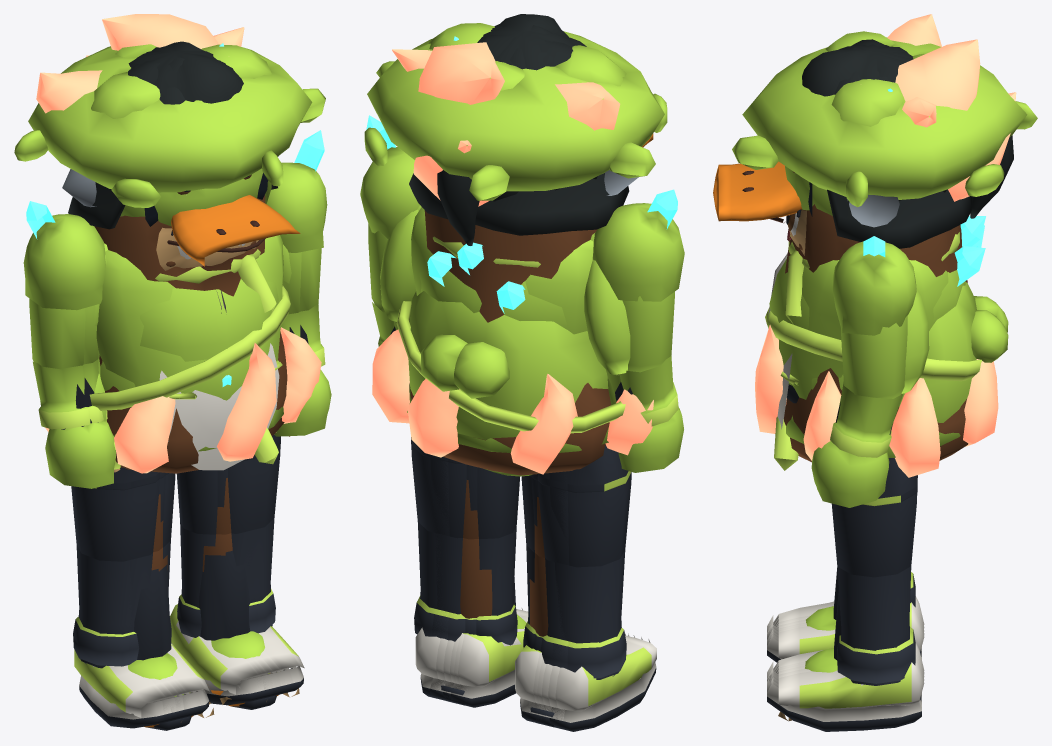
File: characters.glb
3 views of the same model, side by side, from view 1: azimuth 30°, elevation 25°; view 2: azimuth 150°, elevation 25°; view 3: azimuth 270°, elevation 25° (orthographic). The views are drawn at different scales.
Parts seen in each view (by area): view 1: Leafy crown, Tree trunk, Dress flame point, Expedition torso.002, Stone arm, Expedition torso.005, Plump duck body, Expedition thigh.010, Flame hair tip, Broad duck bill, Stone shin.001, Stone arm.001 (+36 smaller); view 2: Leafy crown, Plump duck body, Tree trunk, Dress flame point, Flame hair tip, Stone arm, Hair volume bob, Expedition thigh.010, Sneaker.010, Expedition shin.010, Expedition torso.002, Sneaker.001 (+34 smaller); view 3: Leafy crown, Dress flame point, Tree trunk, Plump duck body, Sneaker.011, Flame hair tip, Stone arm.001, Expedition thigh.011, Expedition shin.011, Expedition torso.002, Hair volume bob, Broad duck bill (+18 smaller).
Boxes of the visible parts, x1=… form: Leafy crown: x1=14, y1=44, x2=325, y2=207; Tree trunk: x1=89, y1=195, x2=290, y2=473; Dress flame point: x1=45, y1=327, x2=321, y2=473; Expedition torso.002: x1=96, y1=235, x2=283, y2=400; Stone arm: x1=23, y1=201, x2=105, y2=310; Expedition torso.005: x1=140, y1=279, x2=278, y2=395; Plump duck body: x1=100, y1=249, x2=279, y2=470; Expedition thigh.010: x1=71, y1=467, x2=148, y2=561; Flame hair tip: x1=36, y1=14, x2=244, y2=113; Broad duck bill: x1=167, y1=195, x2=300, y2=266; Stone shin.001: x1=199, y1=550, x2=269, y2=673; Stone arm.001: x1=266, y1=130, x2=327, y2=253; Leafy crown: x1=364, y1=23, x2=667, y2=200; Plump duck body: x1=408, y1=236, x2=608, y2=476; Tree trunk: x1=396, y1=210, x2=625, y2=475; Dress flame point: x1=372, y1=329, x2=653, y2=474; Flame hair tip: x1=392, y1=42, x2=620, y2=206; Stone arm: x1=593, y1=189, x2=684, y2=301; Hair volume bob: x1=409, y1=36, x2=629, y2=235; Expedition thigh.010: x1=549, y1=445, x2=631, y2=567; Sneaker.010: x1=549, y1=637, x2=656, y2=731; Expedition shin.010: x1=554, y1=549, x2=625, y2=679; Expedition torso.002: x1=411, y1=207, x2=593, y2=334; Sneaker.001: x1=451, y1=614, x2=528, y2=707; Leafy crown: x1=732, y1=31, x2=1037, y2=207; Dress flame point: x1=755, y1=325, x2=998, y2=477; Tree trunk: x1=765, y1=204, x2=981, y2=462; Plump duck body: x1=777, y1=232, x2=1008, y2=429; Sneaker.011: x1=767, y1=658, x2=924, y2=731; Flame hair tip: x1=887, y1=14, x2=1016, y2=201; Stone arm.001: x1=832, y1=236, x2=916, y2=335; Expedition thigh.011: x1=831, y1=458, x2=917, y2=577; Expedition shin.011: x1=837, y1=566, x2=911, y2=685; Expedition torso.002: x1=778, y1=260, x2=948, y2=403; Hair volume bob: x1=827, y1=44, x2=972, y2=248; Broad duck bill: x1=713, y1=161, x2=801, y2=223.
Size of the model in its own units: 0.9756 by 2.01 by 0.9188.
